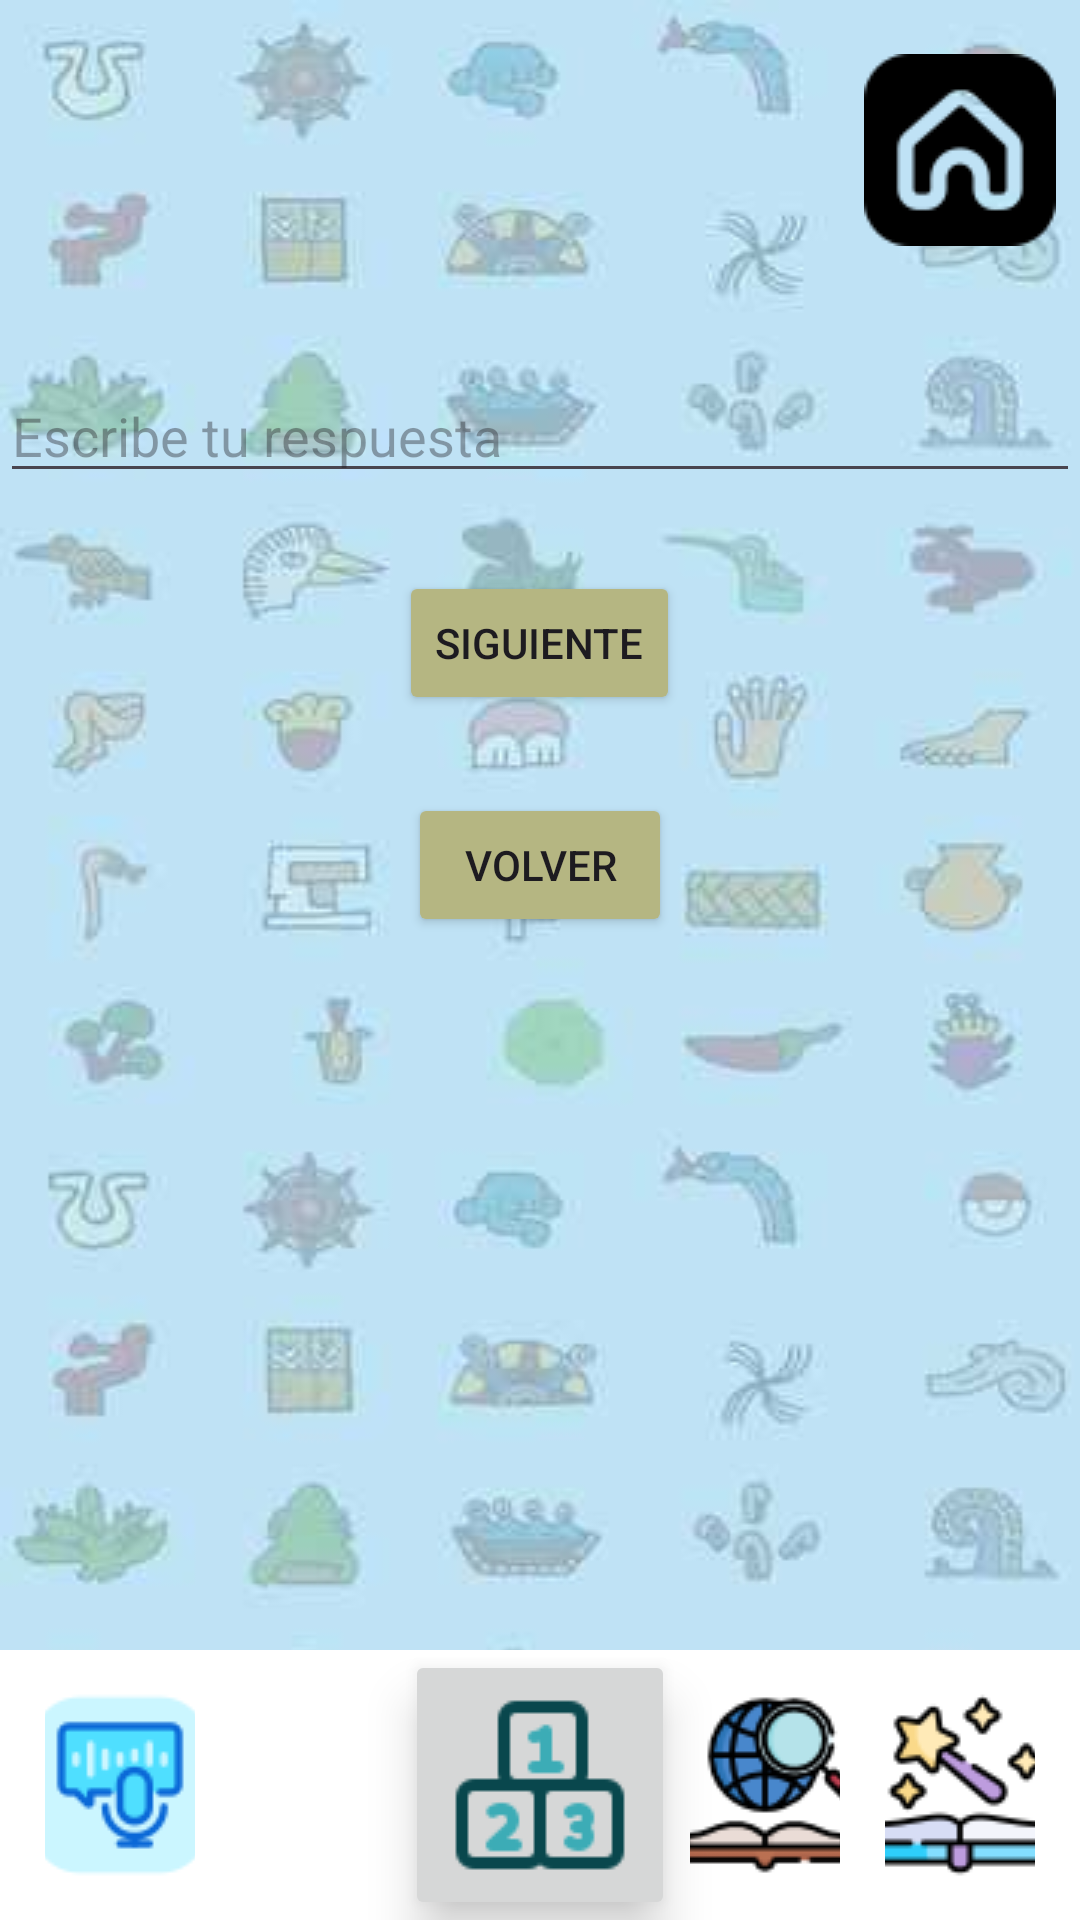

Named icons in this screenshot (1080x1920) and their bounding boxes, (x1=x1, y1=y1, x2=x2, y2=y2):
Español: (x1=885, y1=1696, x2=1035, y2=1875)
Glosario: (x1=690, y1=1697, x2=840, y2=1873)
home: (x1=864, y1=54, x2=1056, y2=246)
Matemáticas: (x1=417, y1=1668, x2=663, y2=1918)
Voz: (x1=45, y1=1697, x2=195, y2=1873)
